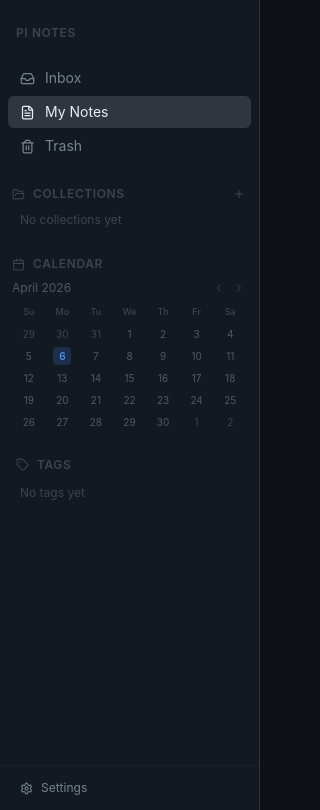
Test: Sidebar collections › shows inline error when collection name is duplicate
This screenshot has width=320, height=810.
Click the button named "New collection".
click(239, 194)  # box [231,186,247,202]
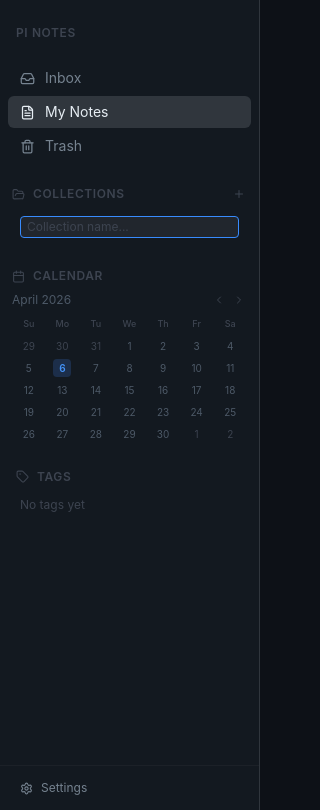
Type "Research" into the field with placeholder "Collection name...".
click(130, 227); type("Research")  # box [20,216,239,238]
Then press Enter
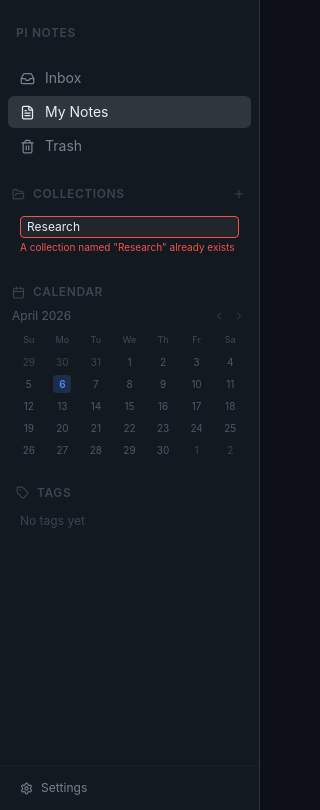
Check: the text "A collection named \"Research\" already exists" is shown, box [20,240,239,254]
